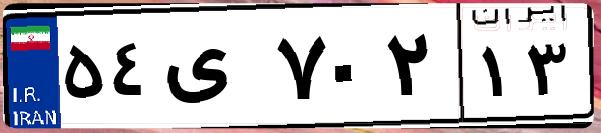0: (330, 28, 385, 110)
1: (475, 38, 525, 113)
2: (385, 28, 445, 110)
3: (525, 38, 570, 115)
4: (110, 28, 158, 98)
5: (57, 26, 110, 100)
7: (270, 28, 330, 110)
ی: (158, 20, 270, 120)
